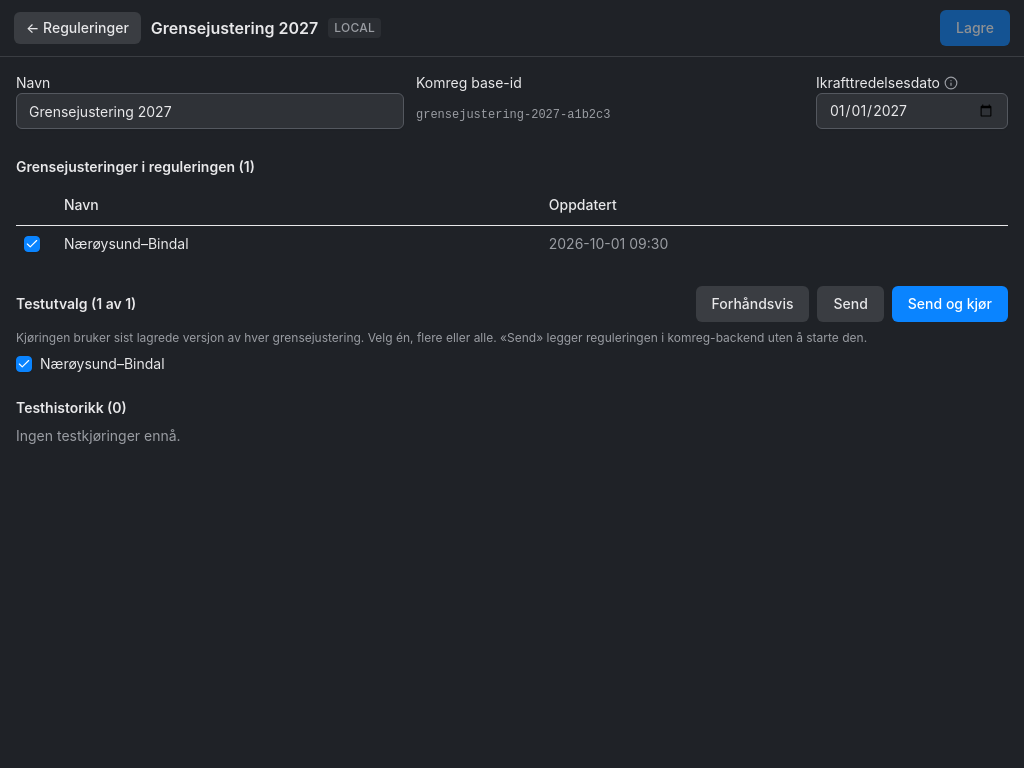
Test: ReguleringView › names the target the backend has now, not the one it had when the page loaded
Expected: the heading "Testutvalg (1 av 1)" is shown, [16, 294, 136, 314]
Expected: the text "local" is shown, [328, 18, 381, 38]
Click the button "Send og kjør": {"x": 950, "y": 304} [892, 286, 1008, 322]
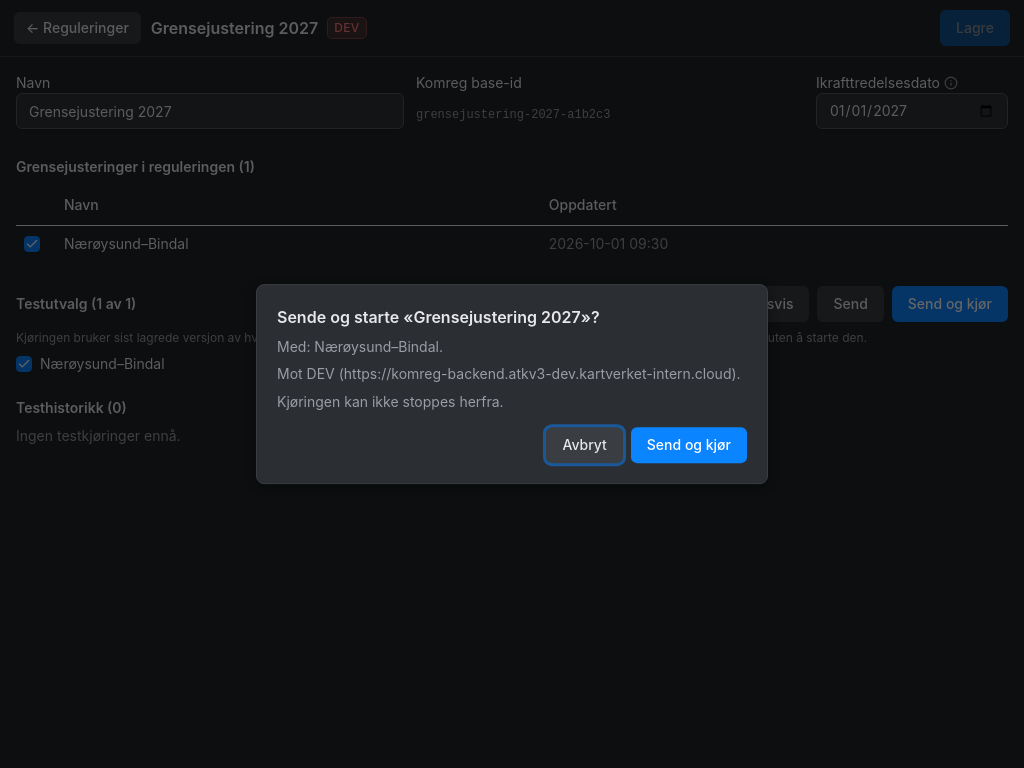
Expected: the text "local" is gone
Click the button "Send og kjør": {"x": 689, "y": 445} [631, 427, 747, 463]
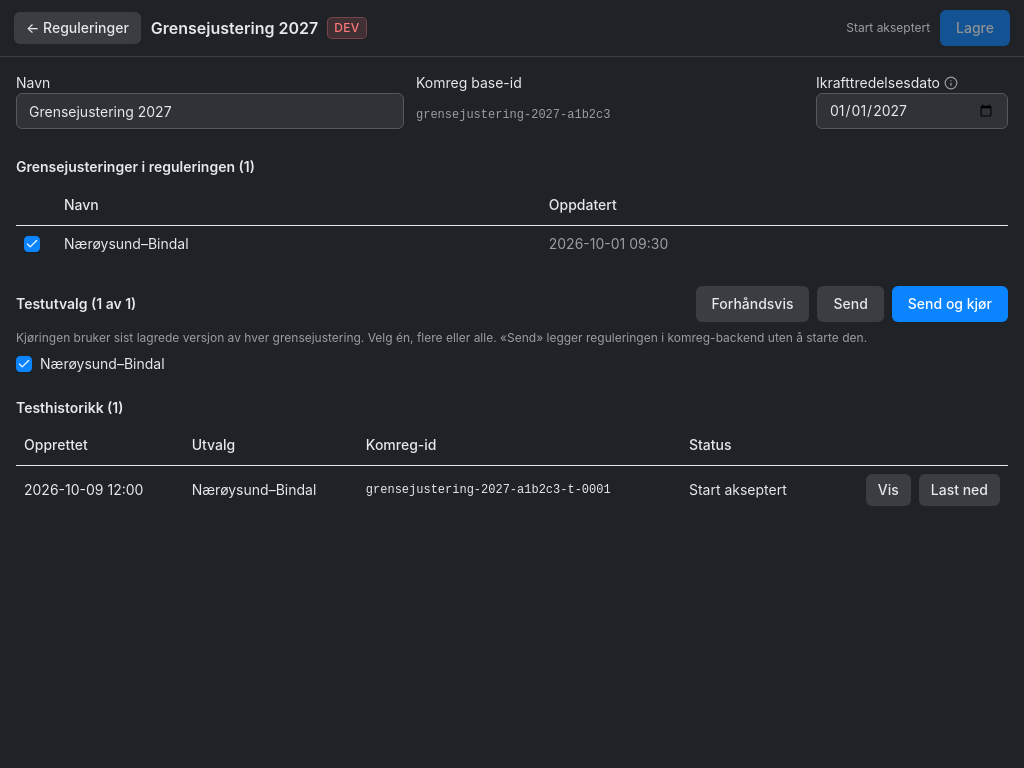
Expected: the heading "Testhistorikk (1)" is shown, [16, 398, 124, 416]
